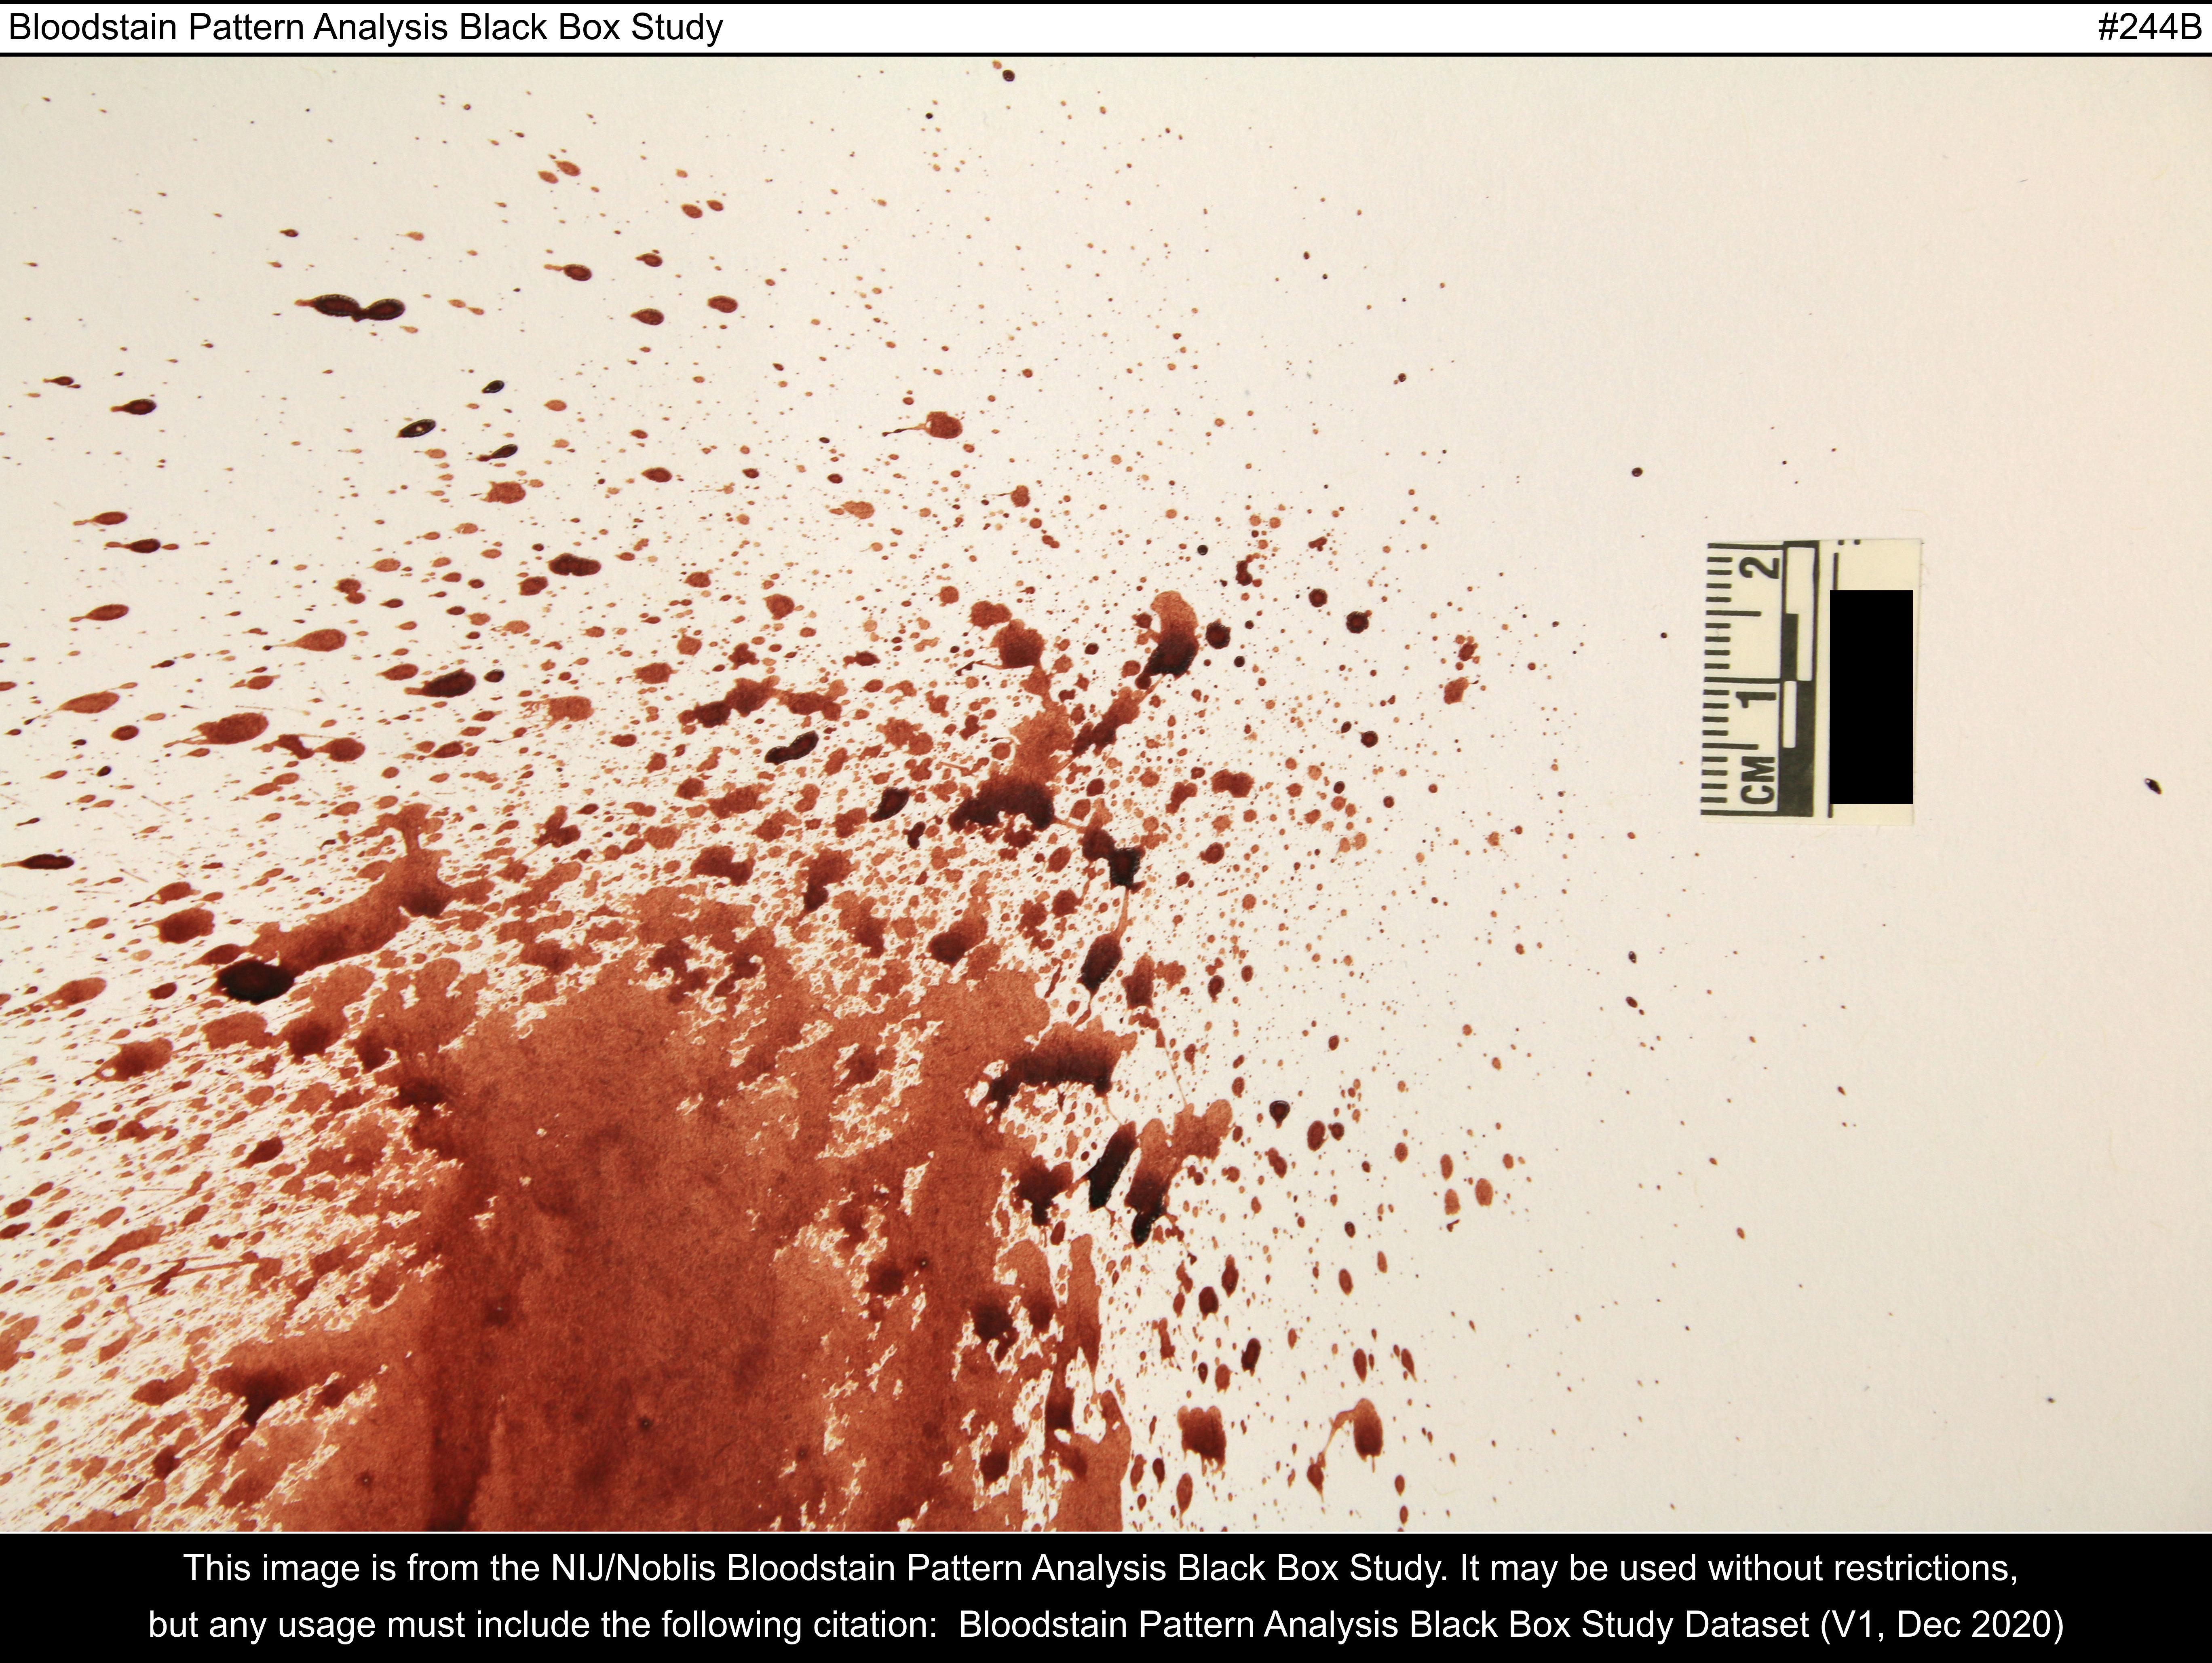Transfer: (133, 582, 1400, 1551)
